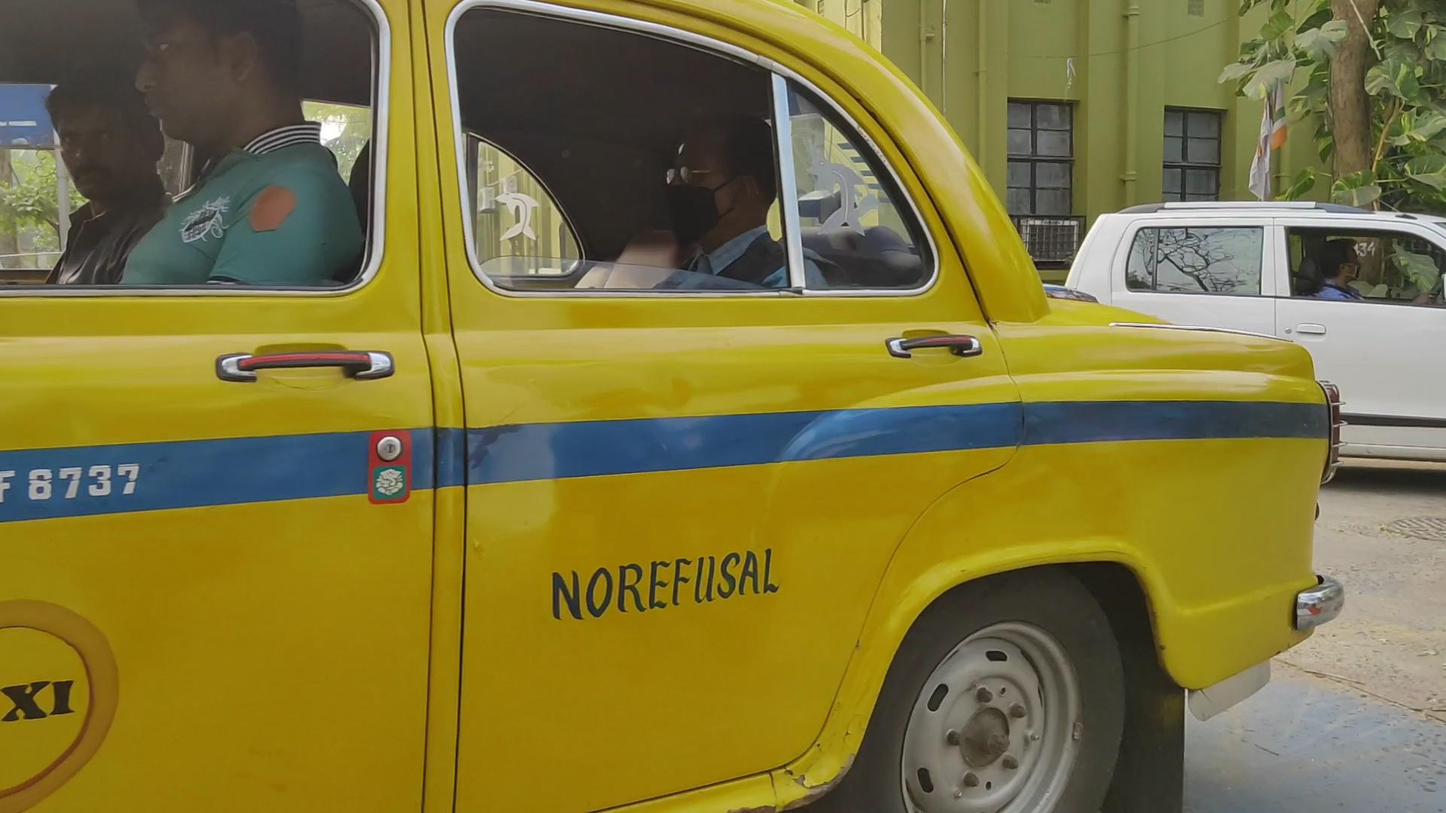car: (1, 1, 1344, 813), (1059, 200, 1446, 489)
